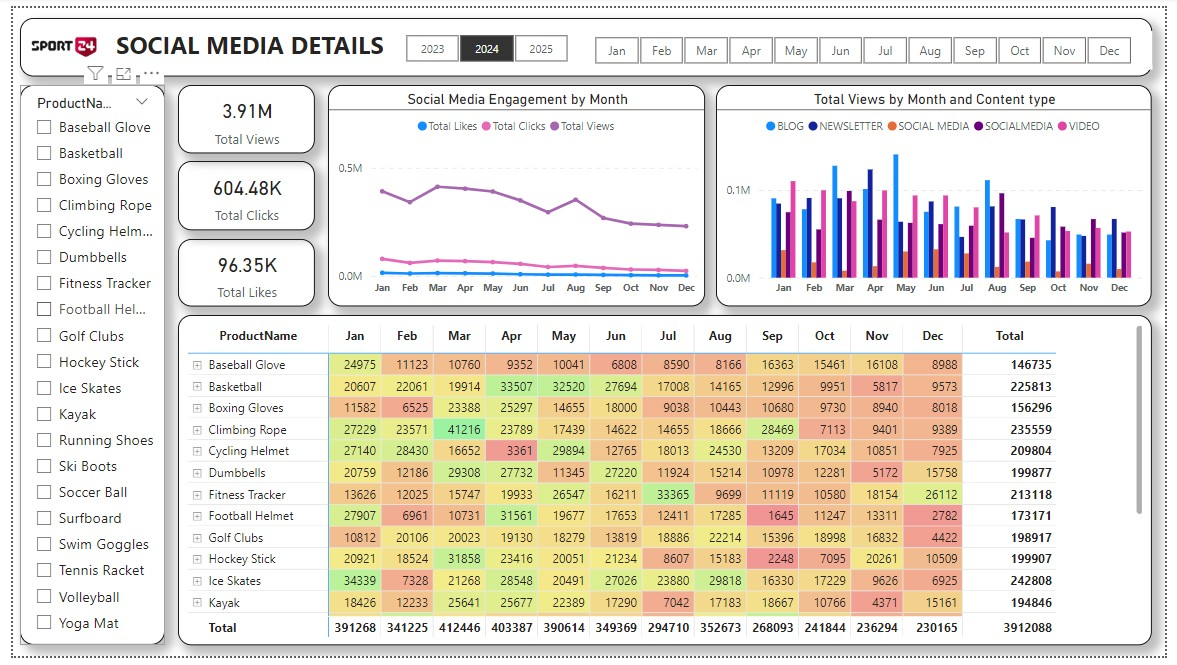

What the dashboard file says about the page in this screenshot:
{"tool":"powerbi","page":{"name":"Social Media Details","canvas":[1280,720],"ordinal":2},"visuals":[{"type":"textbox","box":[8,11.4,1257.7,64.9],"z":0},{"type":"card","title":"Total Likes","fields":{"Values":["Measures_.TotalLikes"]},"box":[183.4,256.3,151.5,75.2],"z":1000},{"type":"slicer","fields":{"Values":["Calendar.Date.Variation.Date Hierarchy.Year"]},"box":[411.3,22.8,229,43.3],"z":2000},{"type":"slicer","fields":{"Values":["Calendar.MonthNameShort"]},"box":[620.9,25.1,644.8,43.3],"z":3000},{"type":"slicer","fields":{"Values":["dim_products.ProductName"]},"box":[8,85.4,160.6,622],"z":4000},{"type":"card","title":"Total Clicks","fields":{"Values":["Measures_.TotalClicks"]},"box":[183.4,169.7,151.5,77.5],"z":5000},{"type":"card","title":"Total Views","fields":{"Values":["Measures_.TotalViews"]},"box":[183.4,85.4,151.5,76.3],"z":6000},{"type":"lineChart","title":"Social Media Engagement by Month","fields":{"Category":["Calendar.MonthNameShort"],"Y":["Measures_.Total Likes","Measures_.Total Clicks","Measures_.Total Views"]},"box":[349.7,85.4,419.2,246.1],"z":7000},{"type":"clusteredColumnChart","title":"Total Views by Month and Content type","fields":{"Series":["fact_engagement_data.ContentType"],"Category":["Calendar.MonthNameShort"],"Y":["Measures_.Total Views"]},"box":[781.5,85.4,484.2,246.1],"z":8000},{"type":"pivotTable","fields":{"Rows":["dim_products.ProductName","fact_engagement_data.ContentType"],"Values":["Measures_.Total Views"],"Columns":["Calendar.MonthNameShort"]},"box":[183.4,340.6,1082.3,366.8],"z":9000},{"type":"image","box":[8,0,98,85.4],"z":9001}]}

Visuals, with their boxes in screenshot pixels (x1, y1, x2, y2), scaled from the page's 1280x720 canvas onto the 1177x665 screenshot:
textbox: [x1=7, y1=11, x2=1164, y2=70]
"Total Likes" card: [x1=169, y1=237, x2=308, y2=306]
slicer - Calendar.Date.Variation.Date Hierarchy.Year: [x1=378, y1=21, x2=589, y2=61]
slicer - Calendar.MonthNameShort: [x1=571, y1=23, x2=1164, y2=63]
slicer - dim_products.ProductName: [x1=7, y1=79, x2=155, y2=653]
"Total Clicks" card: [x1=169, y1=157, x2=308, y2=228]
"Total Views" card: [x1=169, y1=79, x2=308, y2=149]
"Social Media Engagement by Month" lineChart: [x1=322, y1=79, x2=707, y2=306]
"Total Views by Month and Content type" clusteredColumnChart: [x1=719, y1=79, x2=1164, y2=306]
pivotTable - dim_products.ProductName x fact_engagement_data.ContentType: [x1=169, y1=315, x2=1164, y2=653]
image: [x1=7, y1=0, x2=97, y2=79]
